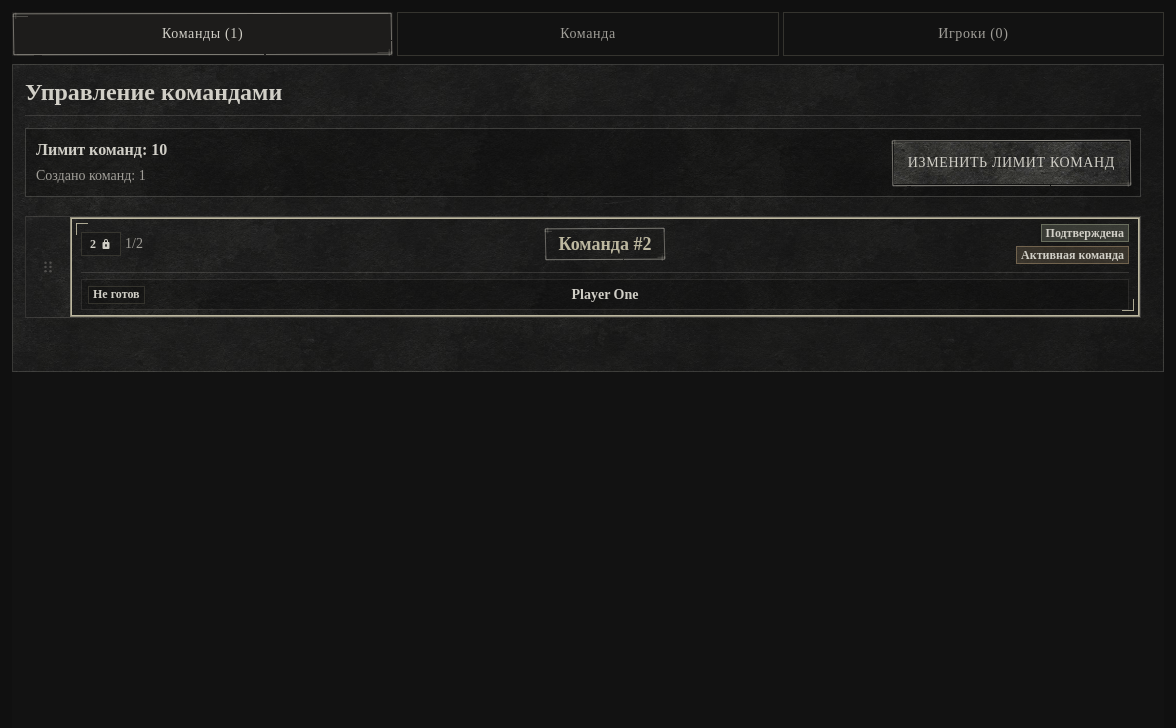
Scenario: TeamRegistrationsPage › explains why disbanding is blocked (Команда сейчас активна. Роспуск и отмена подтверждения недоступны.)
Click the button with aria-label "Управление:" at (101, 244), box [70,217,1140,317]
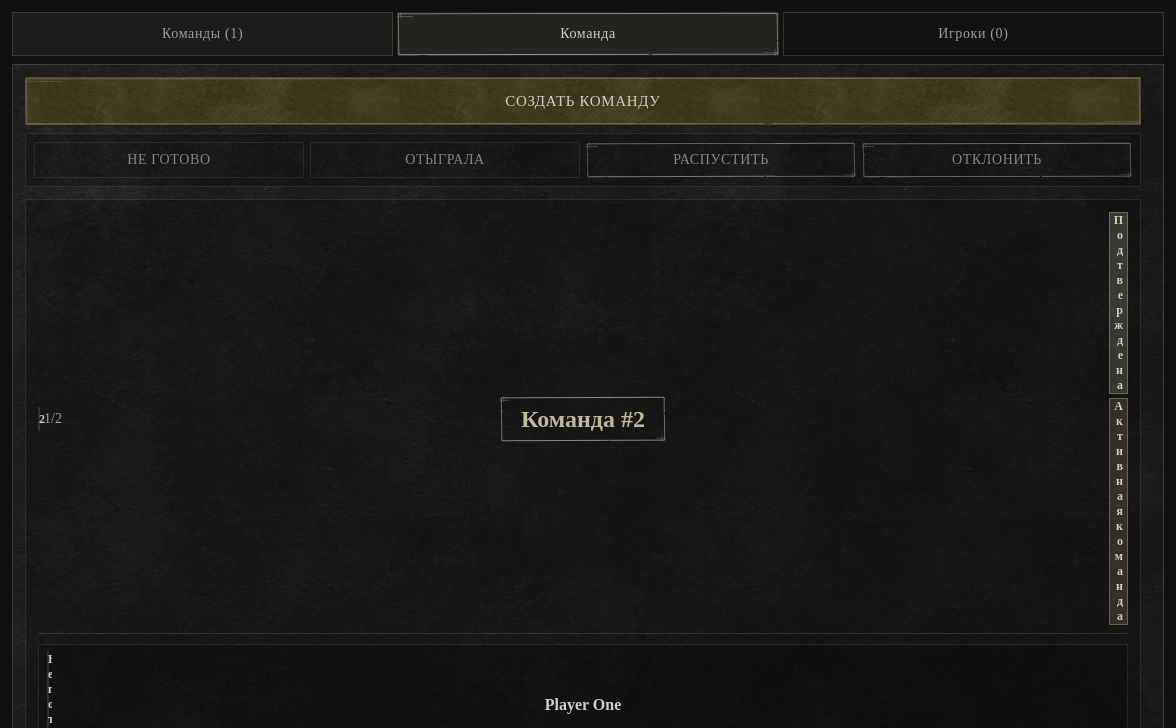
Now the button "Распустить" is disabled
Hover over the element showing "Распустить" at (721, 160), box [586,142,856,178]
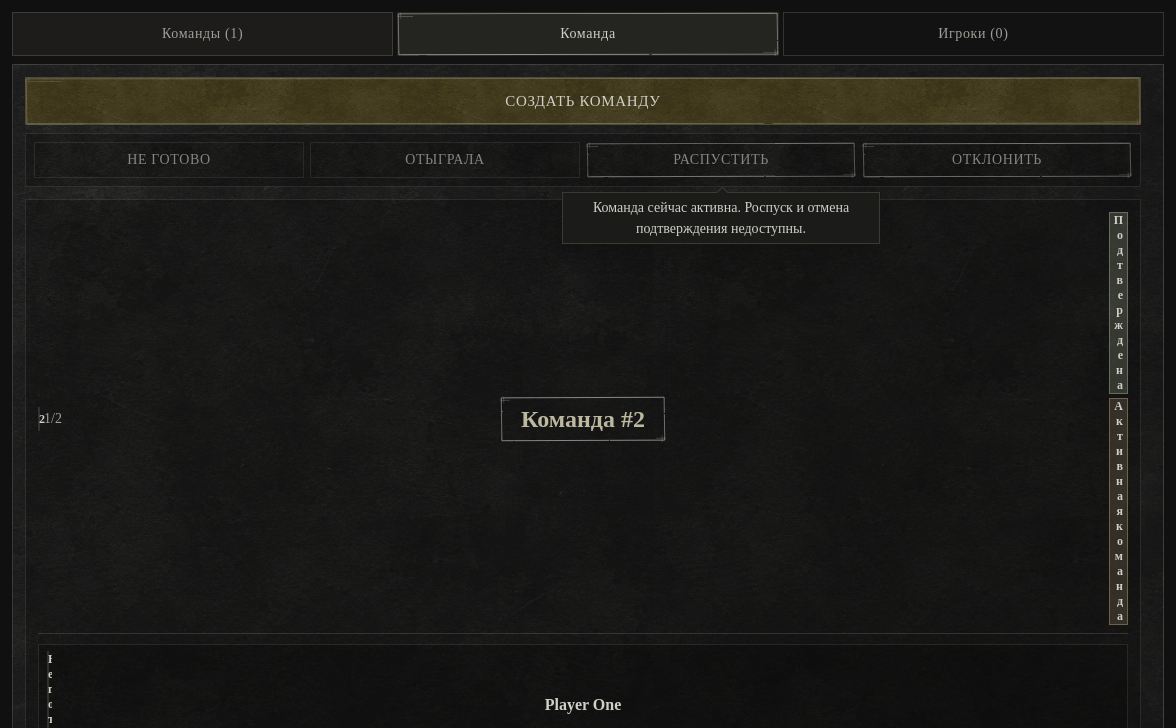
Now the tooltip reads "Команда сейчас активна. Роспуск и отмена подтверждения недоступны.", box [593,200,849,236]
